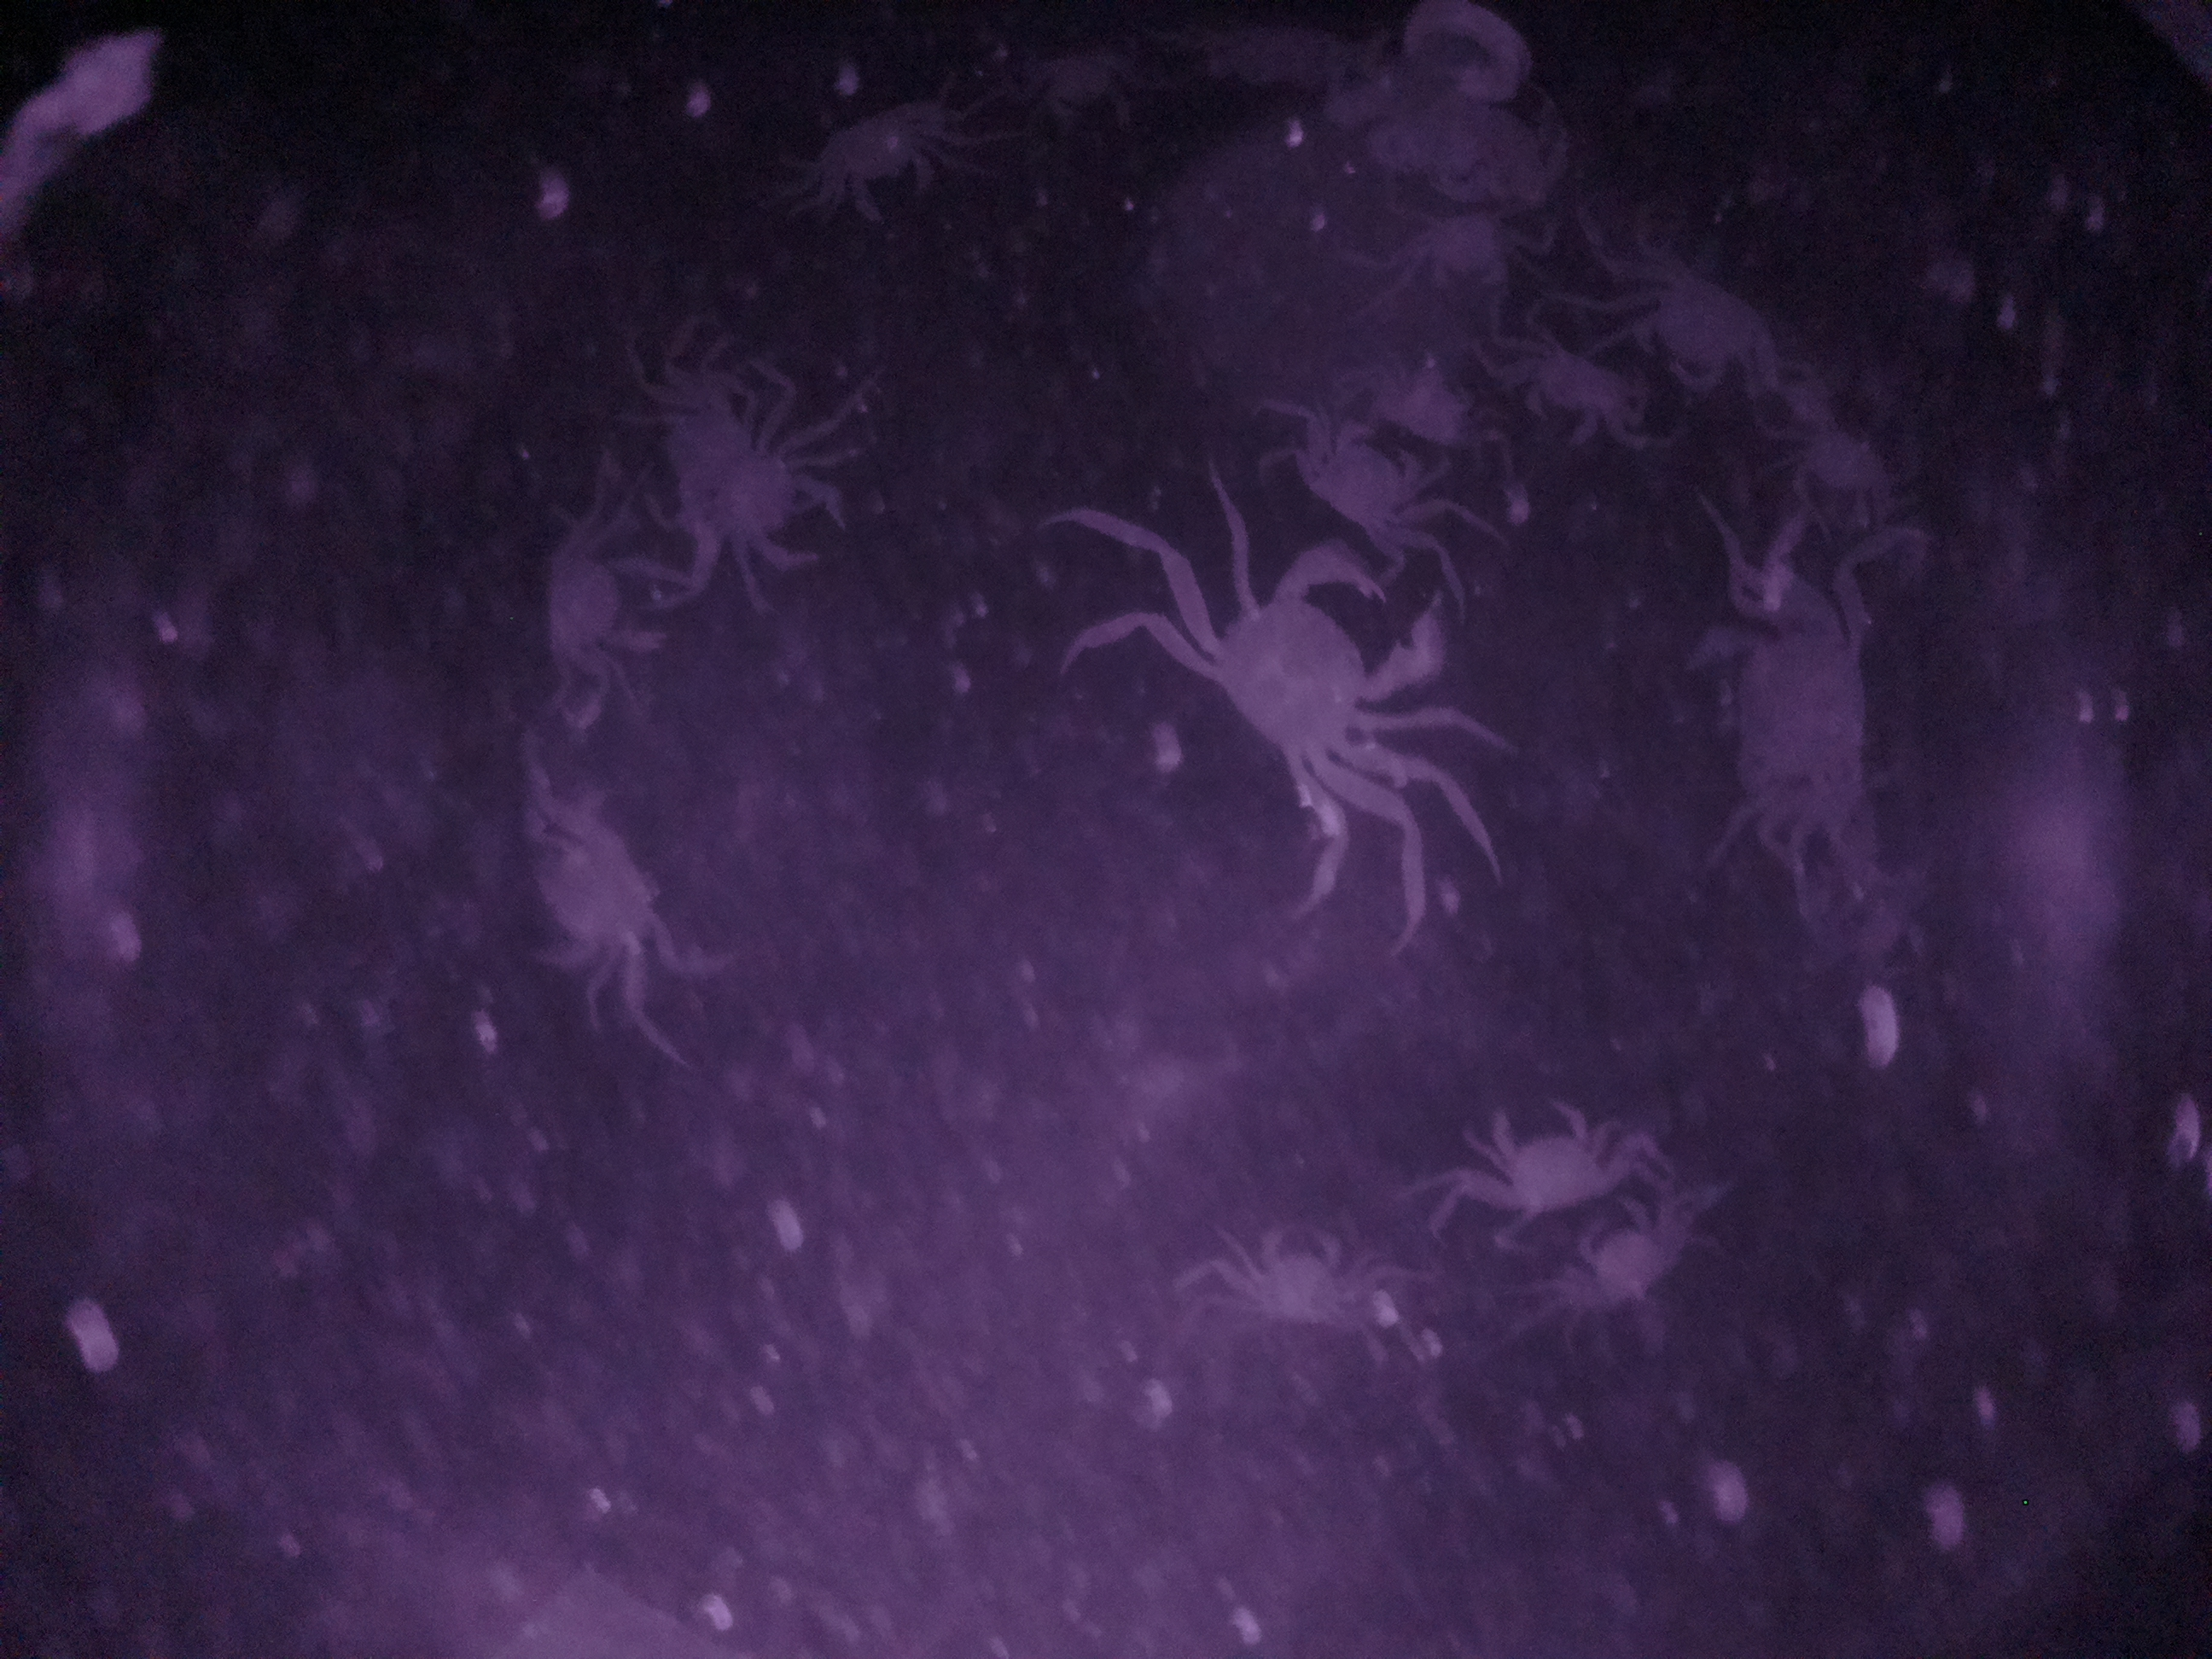Crab: (1150, 537, 1460, 821), (523, 488, 672, 692), (1606, 251, 1801, 404), (796, 91, 981, 235), (1447, 1086, 1641, 1223), (1278, 404, 1458, 540), (1200, 1216, 1383, 1338), (1378, 192, 1550, 303), (1494, 338, 1646, 448)
